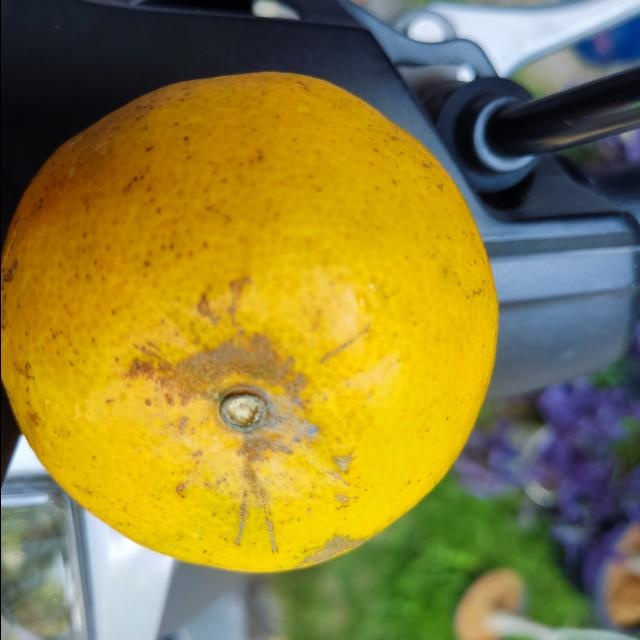agrume: (0, 68, 498, 576)
